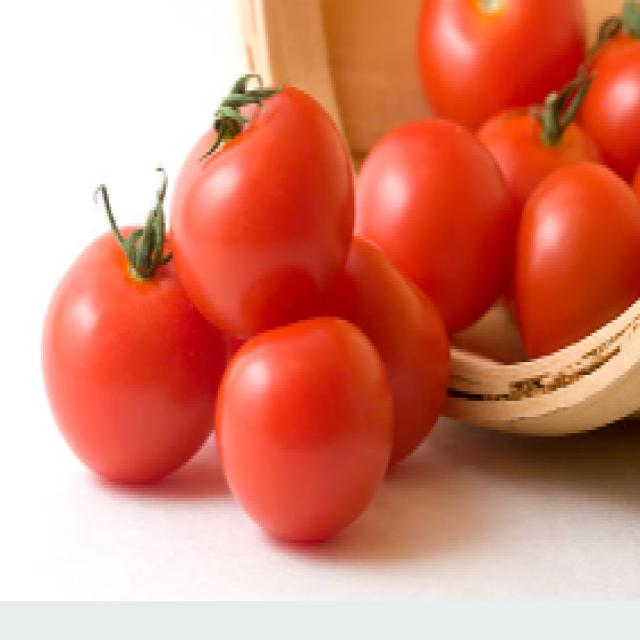Tomato: (19, 195, 223, 487), (144, 66, 356, 334)
